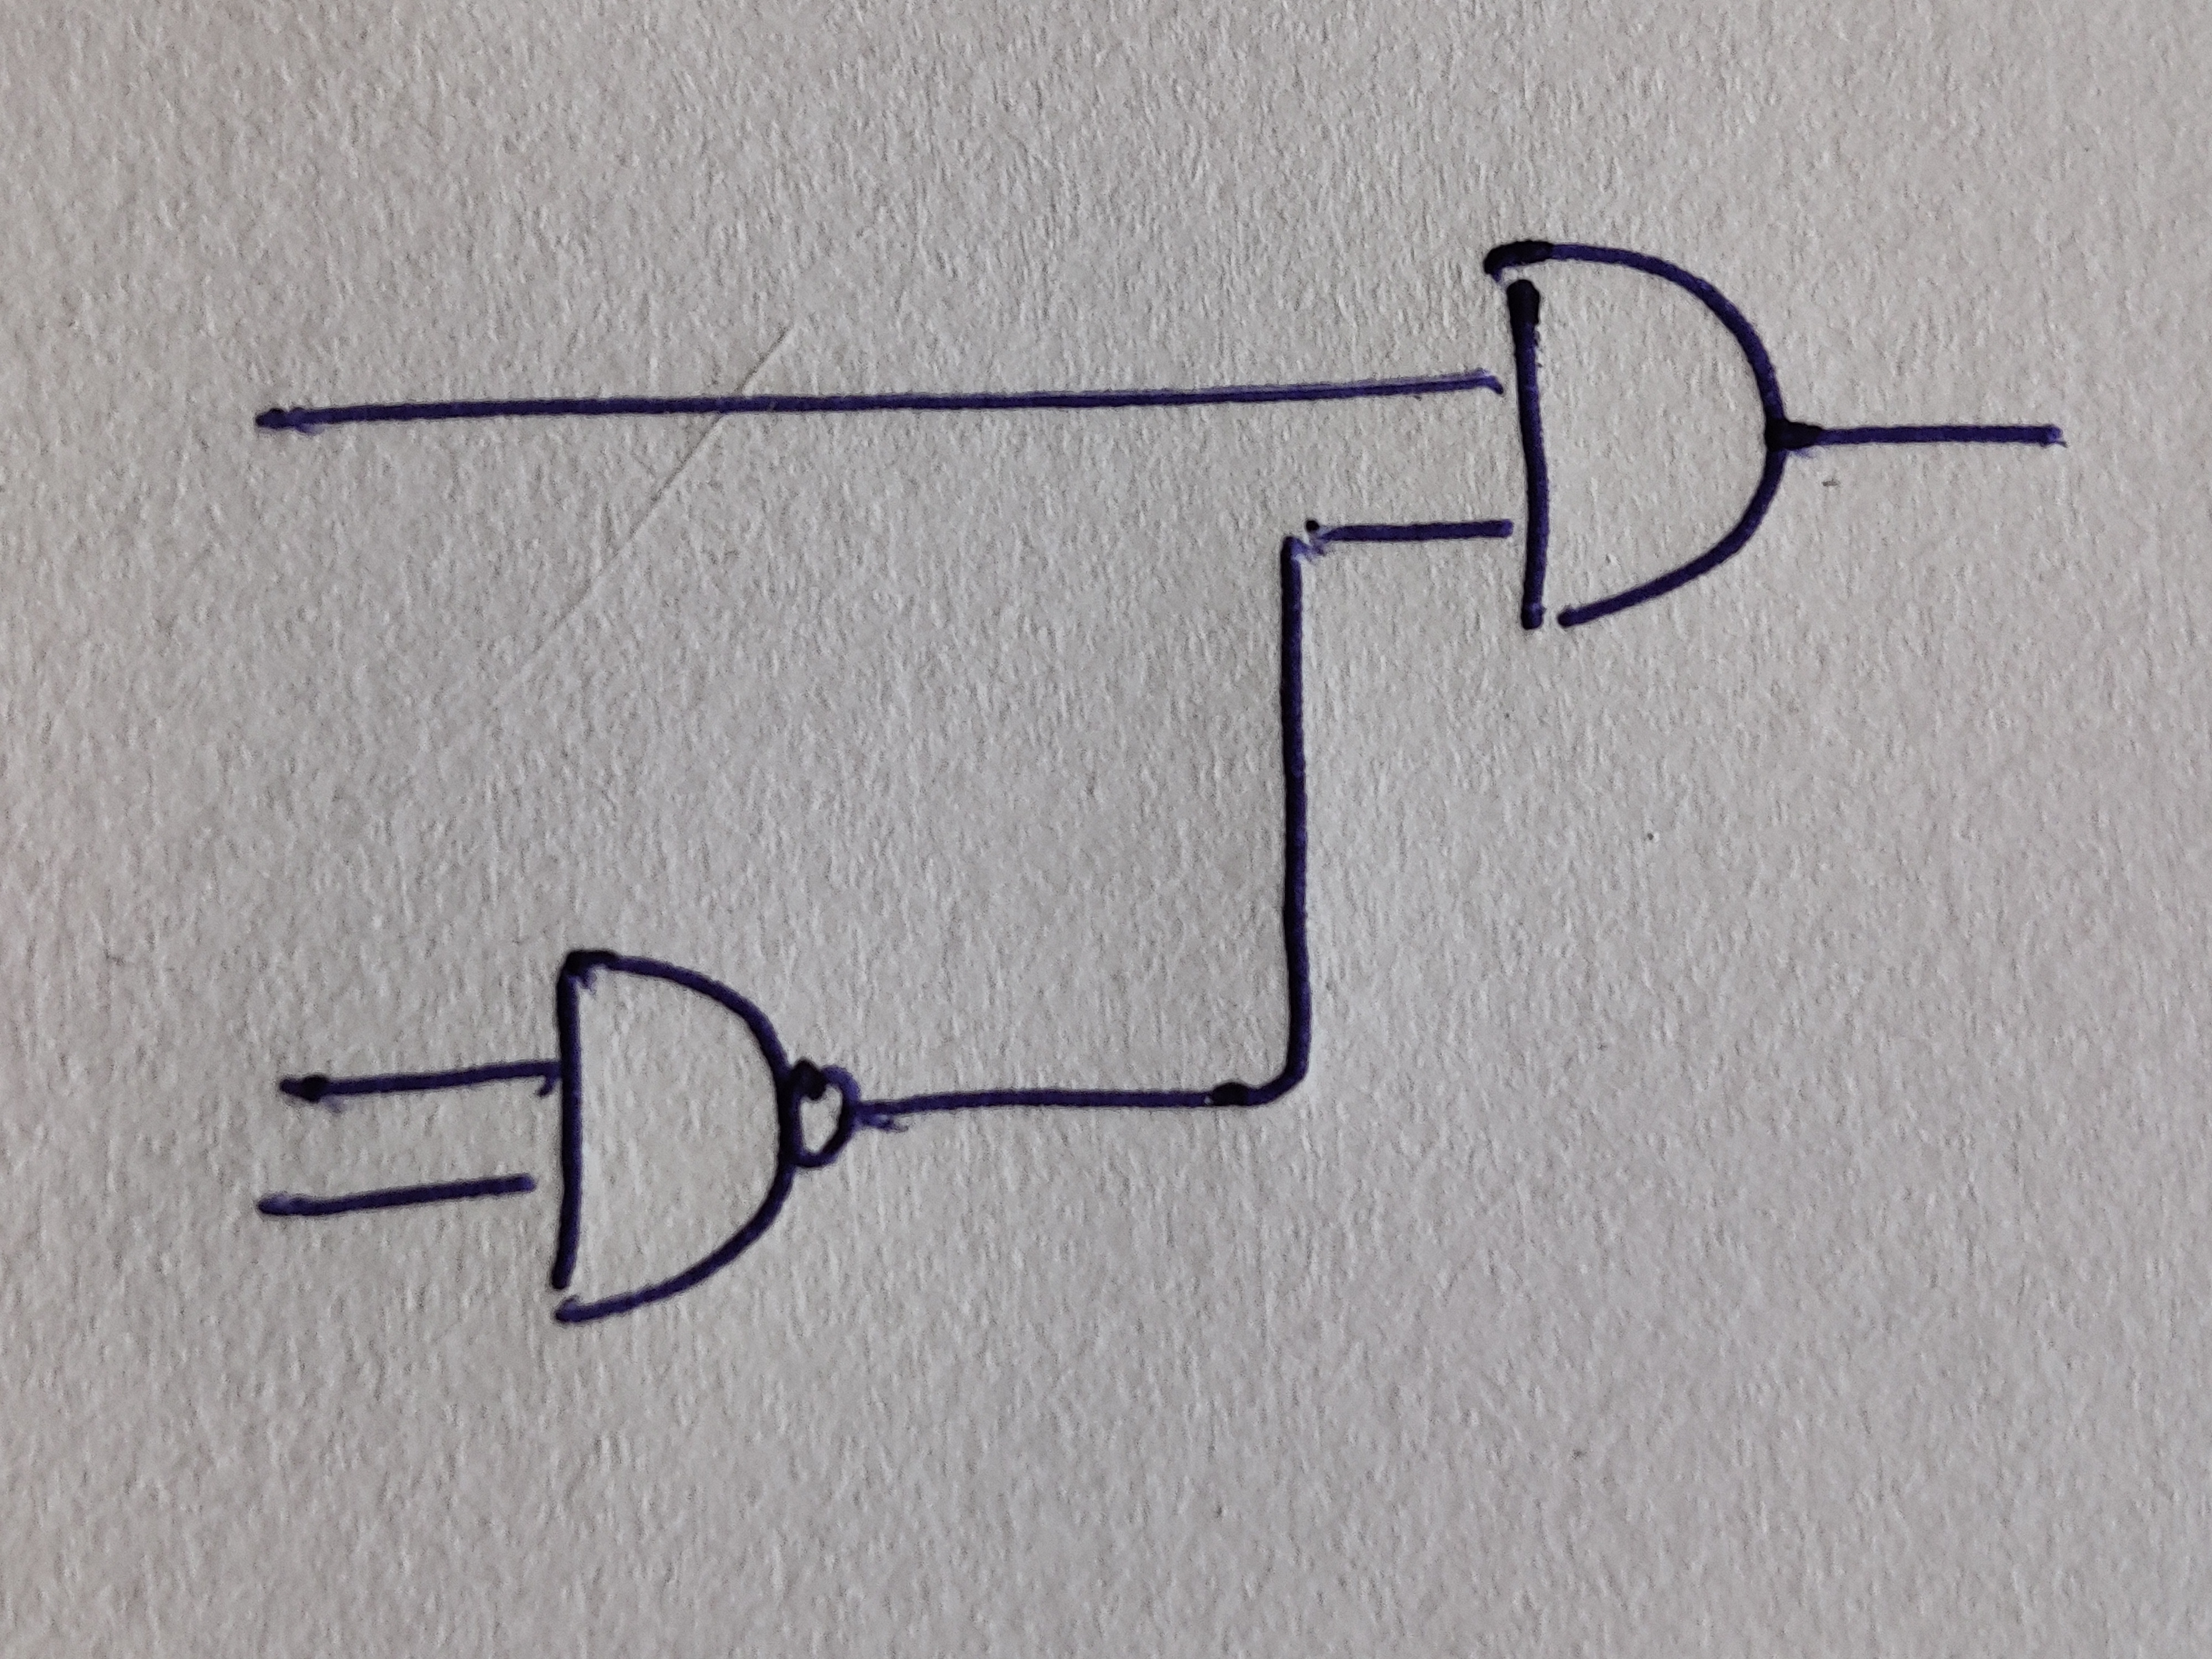and: (1484, 239, 1789, 629), (552, 950, 792, 1321)
not: (789, 1060, 860, 1169)
